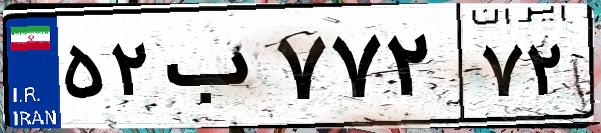2: (385, 28, 445, 110), (525, 38, 570, 115), (110, 28, 158, 98)
5: (57, 26, 110, 100)
7: (270, 28, 330, 110), (330, 28, 385, 110), (475, 38, 525, 113)
ب: (158, 20, 270, 120)
